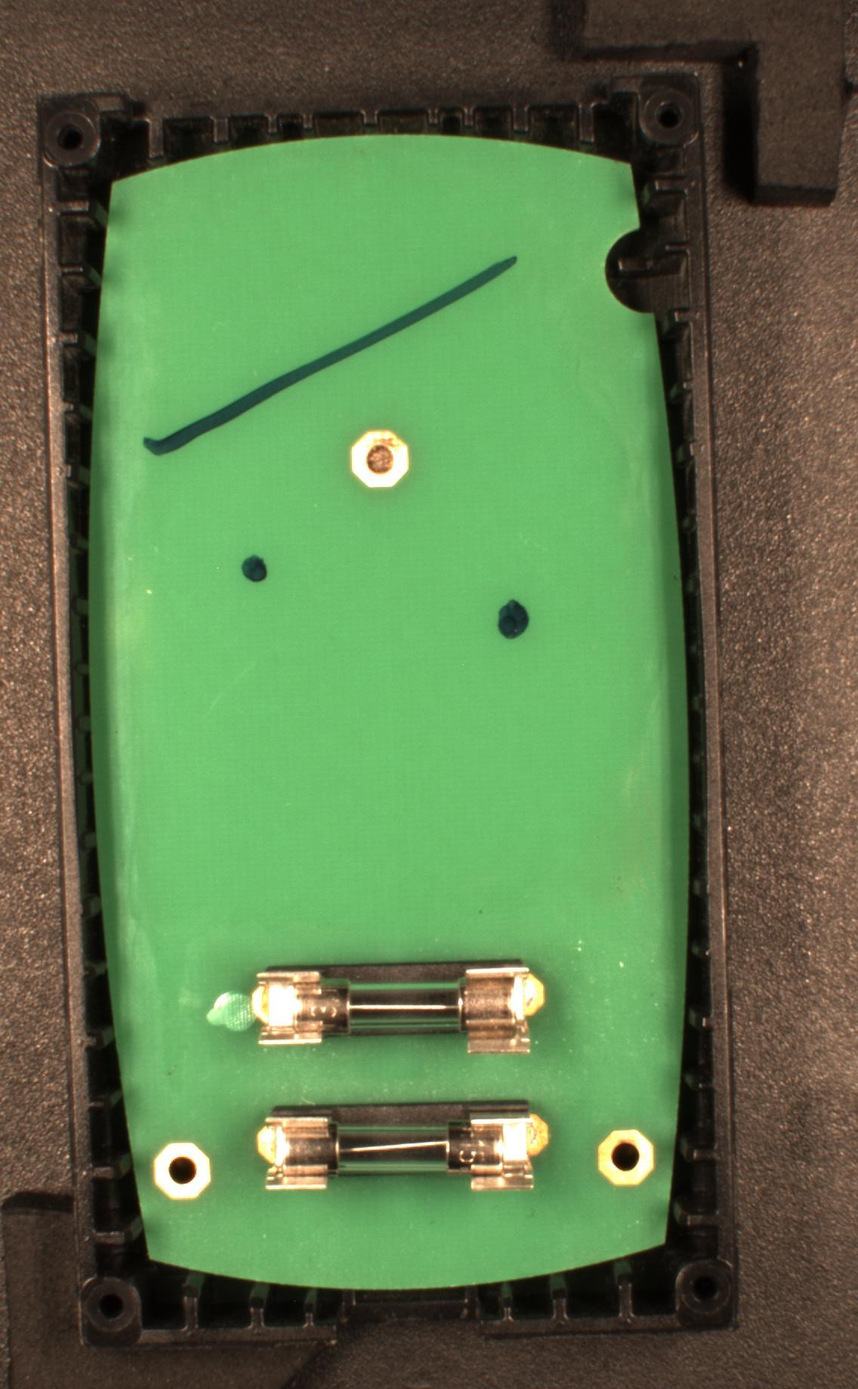Linijsko Ostecene: (141, 253, 520, 460)
Tockasto Ostecenje: (494, 597, 534, 642), (241, 552, 271, 586)
